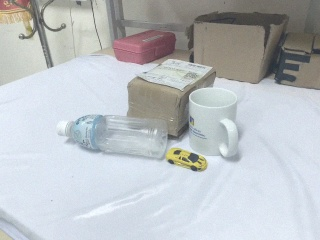bottle: (55, 112, 170, 159)
box: (127, 58, 217, 139), (190, 10, 288, 84), (274, 32, 320, 91)
cup: (186, 85, 241, 159)
toy_car: (166, 147, 208, 172)
